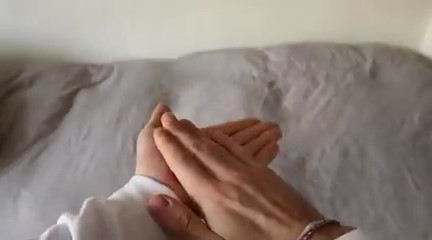H: (121, 82, 328, 237)
